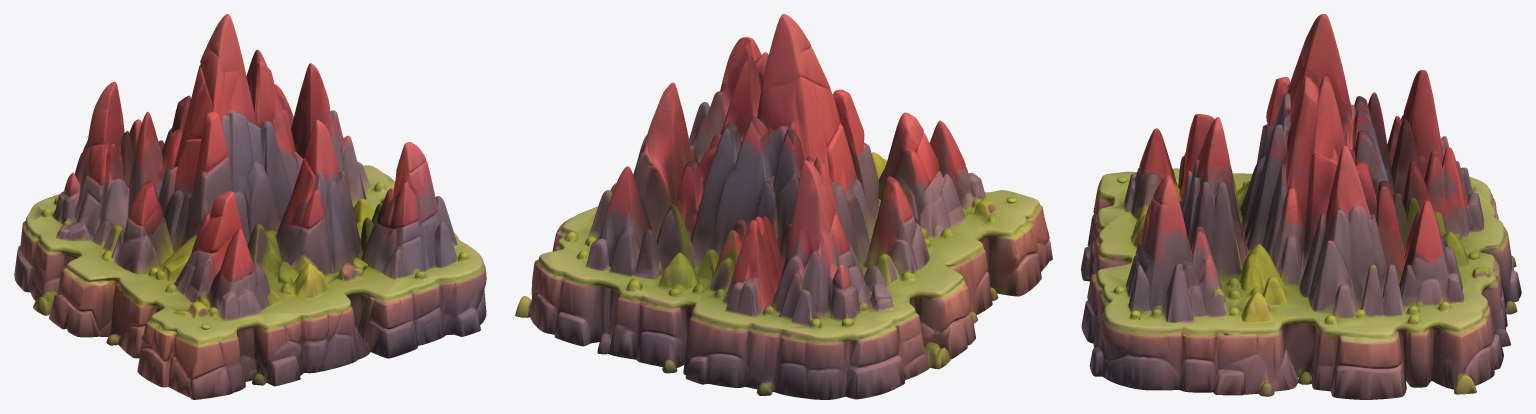
File: mountain.glb
3 renders of one model, left to right at view 1: azimuth 30°, elevation 25°; view 2: azimuth 150°, elevation 25°; view 3: azimuth 270°, elevation 25°, orthographic. The views are drawn at different scales.
Visible parts, largest first — view 1: node_0; view 2: node_0; view 3: node_0.
Part boxes in pixels (<box>): node_0: <box>14,14,486,399</box>; node_0: <box>515,14,1052,399</box>; node_0: <box>1081,14,1521,399</box>.
Size of the model in its own units: 0.8294 by 0.5973 by 0.8281.
Materials: 1 (1 with a texture image).
